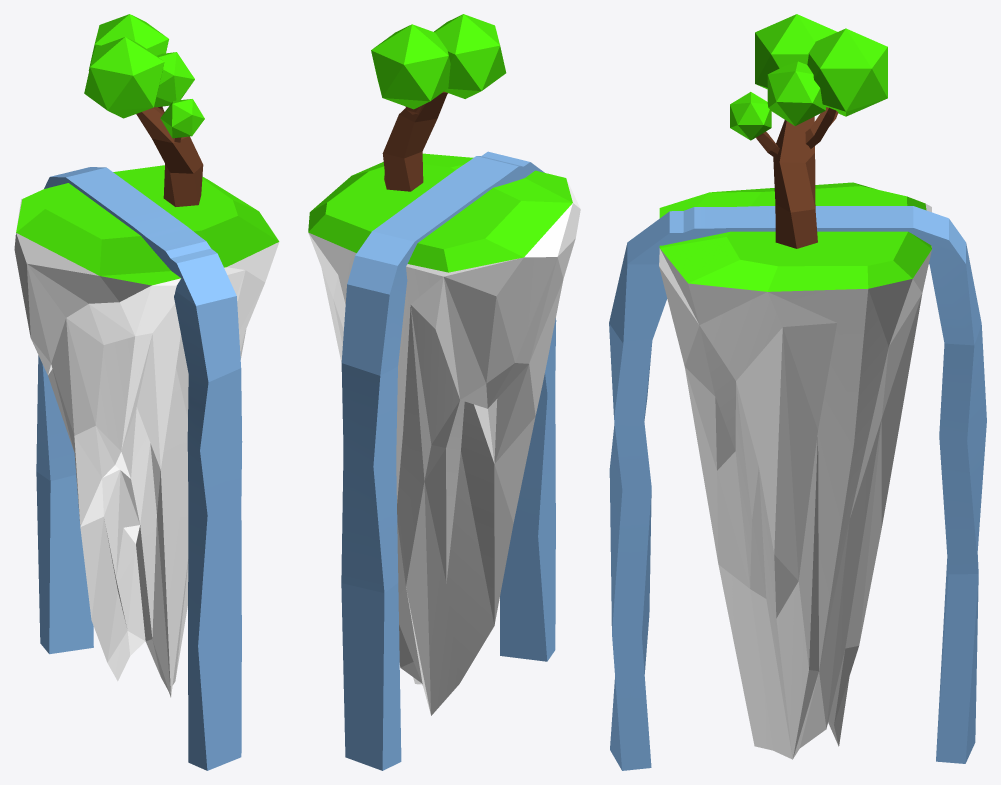
Rendered from isle.obj.
The picture shows the model from 3 angles, left to right: view 1: azimuth 30°, elevation 25°; view 2: azimuth 150°, elevation 25°; view 3: azimuth 270°, elevation 25°; orthographic projection. The views are drawn at different scales.
Parts seen in each view (by area): view 1: Landscape, Cube, Platonic.1, Cylinder, Platonic.3, Platonic.2, Platonic; view 2: Landscape, Cube, Platonic.3, Platonic.1, Cylinder; view 3: Landscape, Cube, Platonic.3, Cylinder, Platonic.1, Platonic.2, Platonic, Cylinder.1.
Boxes of the visible parts, x1,y1,x2,y2 form: Landscape: [14, 165, 279, 697]; Cube: [36, 167, 242, 770]; Platonic.1: [84, 37, 164, 118]; Cylinder: [136, 107, 203, 206]; Platonic.3: [88, 14, 168, 70]; Platonic.2: [154, 52, 194, 107]; Platonic: [160, 99, 204, 138]; Landscape: [308, 153, 580, 715]; Cube: [341, 151, 556, 770]; Platonic.3: [371, 24, 450, 109]; Platonic.1: [434, 14, 506, 98]; Cylinder: [382, 91, 447, 191]; Landscape: [659, 182, 931, 759]; Cube: [609, 206, 986, 770]; Platonic.3: [807, 28, 887, 116]; Cylinder: [773, 116, 817, 248]; Platonic.1: [755, 14, 837, 89]; Platonic.2: [767, 61, 825, 125]; Platonic: [730, 92, 771, 140]; Cylinder.1: [805, 107, 838, 148].
Bounding box in the file's own units: 17.54 × 52.35 × 24.32.
4 materials, 4 textured.
